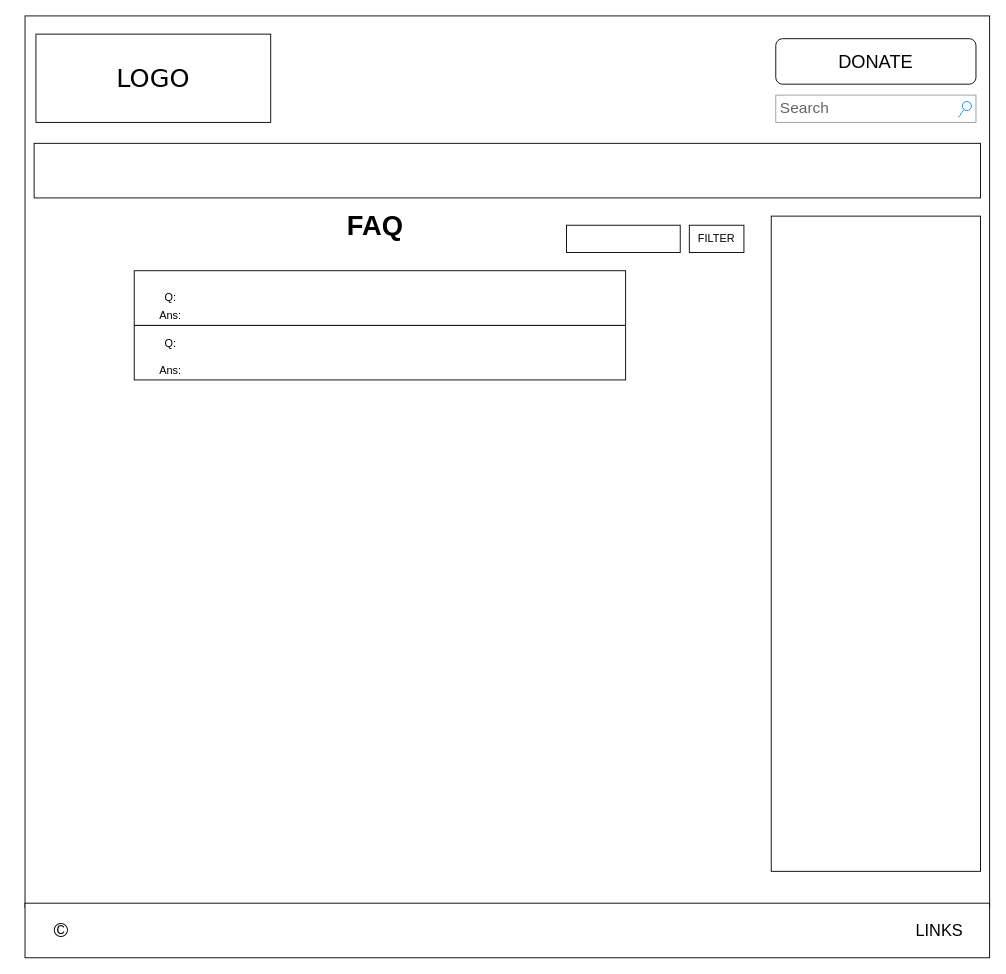
The diagram is 1006 pixels wide and 974 high, and some of its shapes have lost their labels. Here are the shapes that lost their labels. From the top down, the centre of each, then its label:
(507,170): NAVIGATION BAR
(623,238): Search keyword
